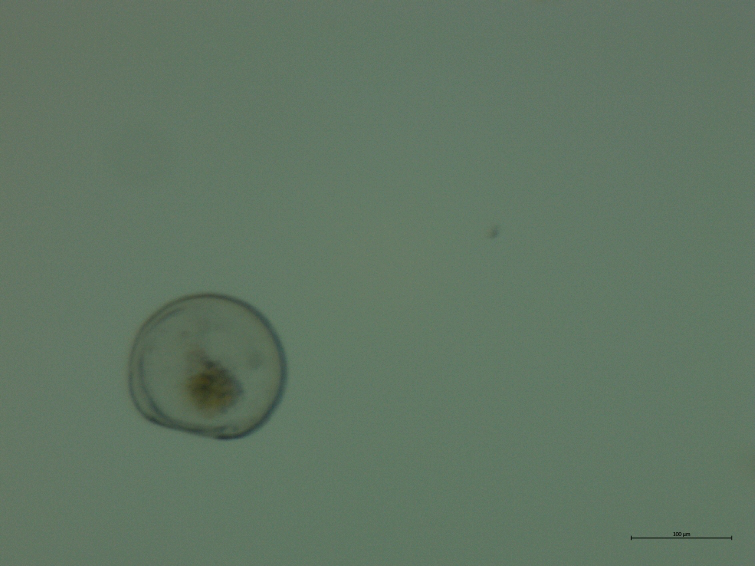oyster: (119, 287, 298, 450)
